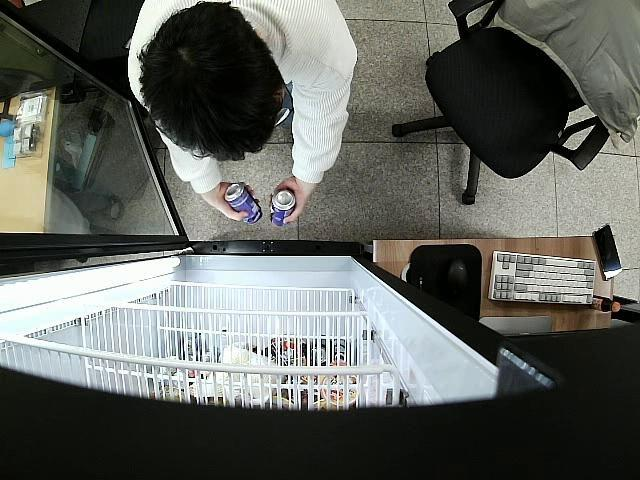14_welchsGrape: (222, 182, 262, 224), (271, 188, 294, 226)
